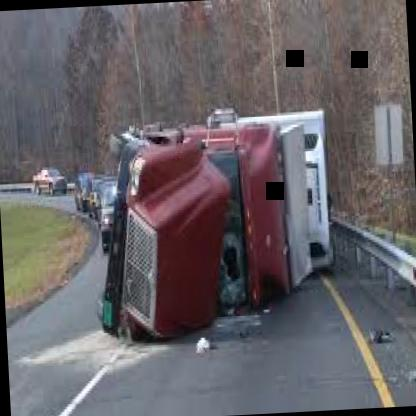accident: (76, 74, 359, 362)
